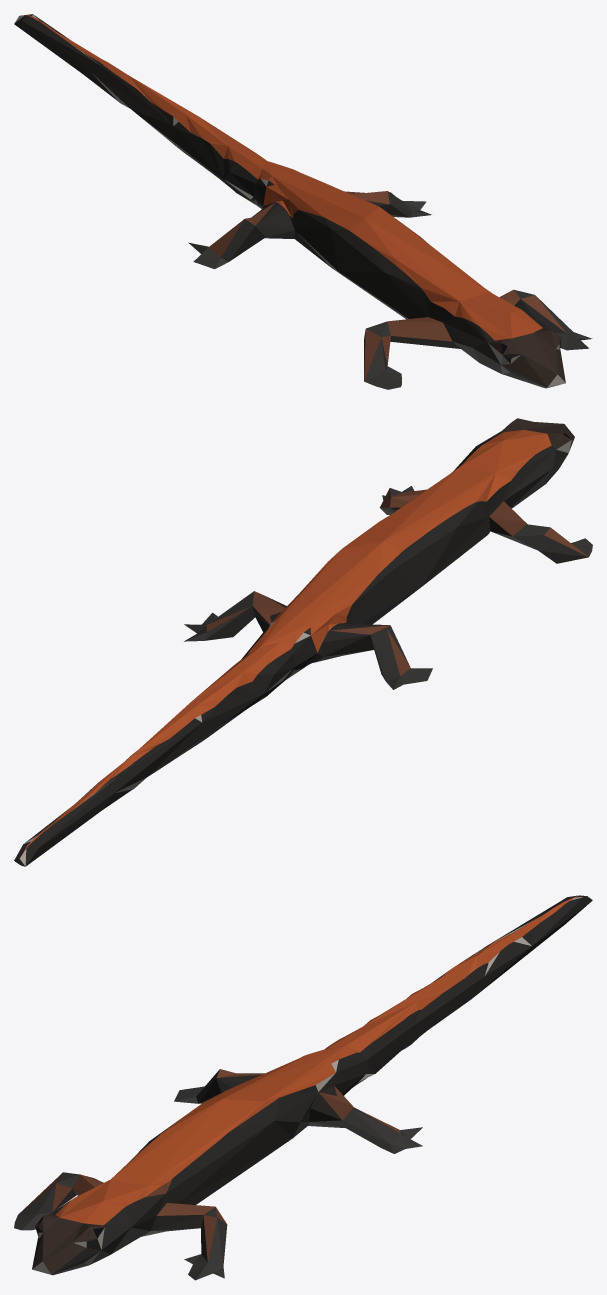
Rendered from salamander.glb.
The picture shows the model from 3 angles, top to bottom: view 1: azimuth 30°, elevation 25°; view 2: azimuth 150°, elevation 25°; view 3: azimuth 330°, elevation 25°; orthographic projection.
Parts seen in each view (by area): view 1: lod0; view 2: lod0; view 3: lod0.
Part boxes in pixels (box(x1,y1,x2,y2)): lod0: box(14, 14, 592, 389); lod0: box(14, 418, 592, 866); lod0: box(14, 895, 592, 1280).
Size of what is drawn, in the model's own units: 0.0257 by 0.00713 by 0.1013.
